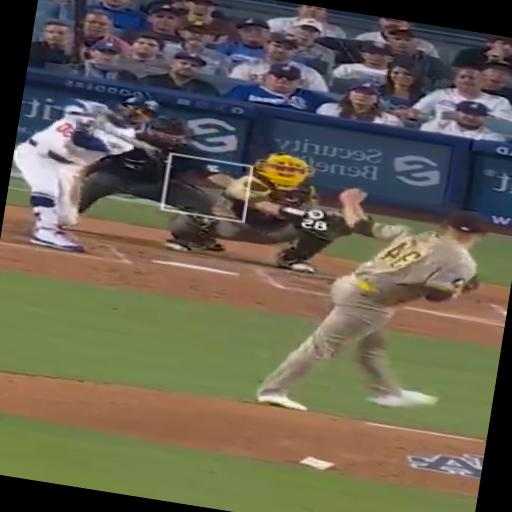bat: (89, 120, 160, 157)
